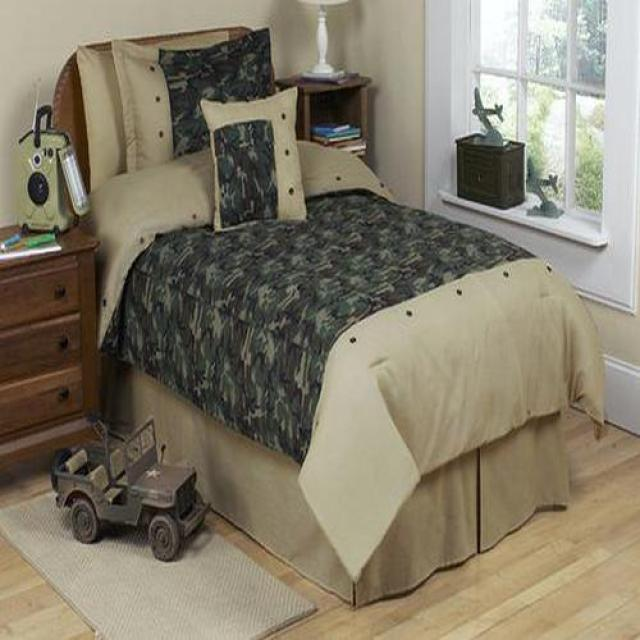bed: (73, 27, 605, 608)
